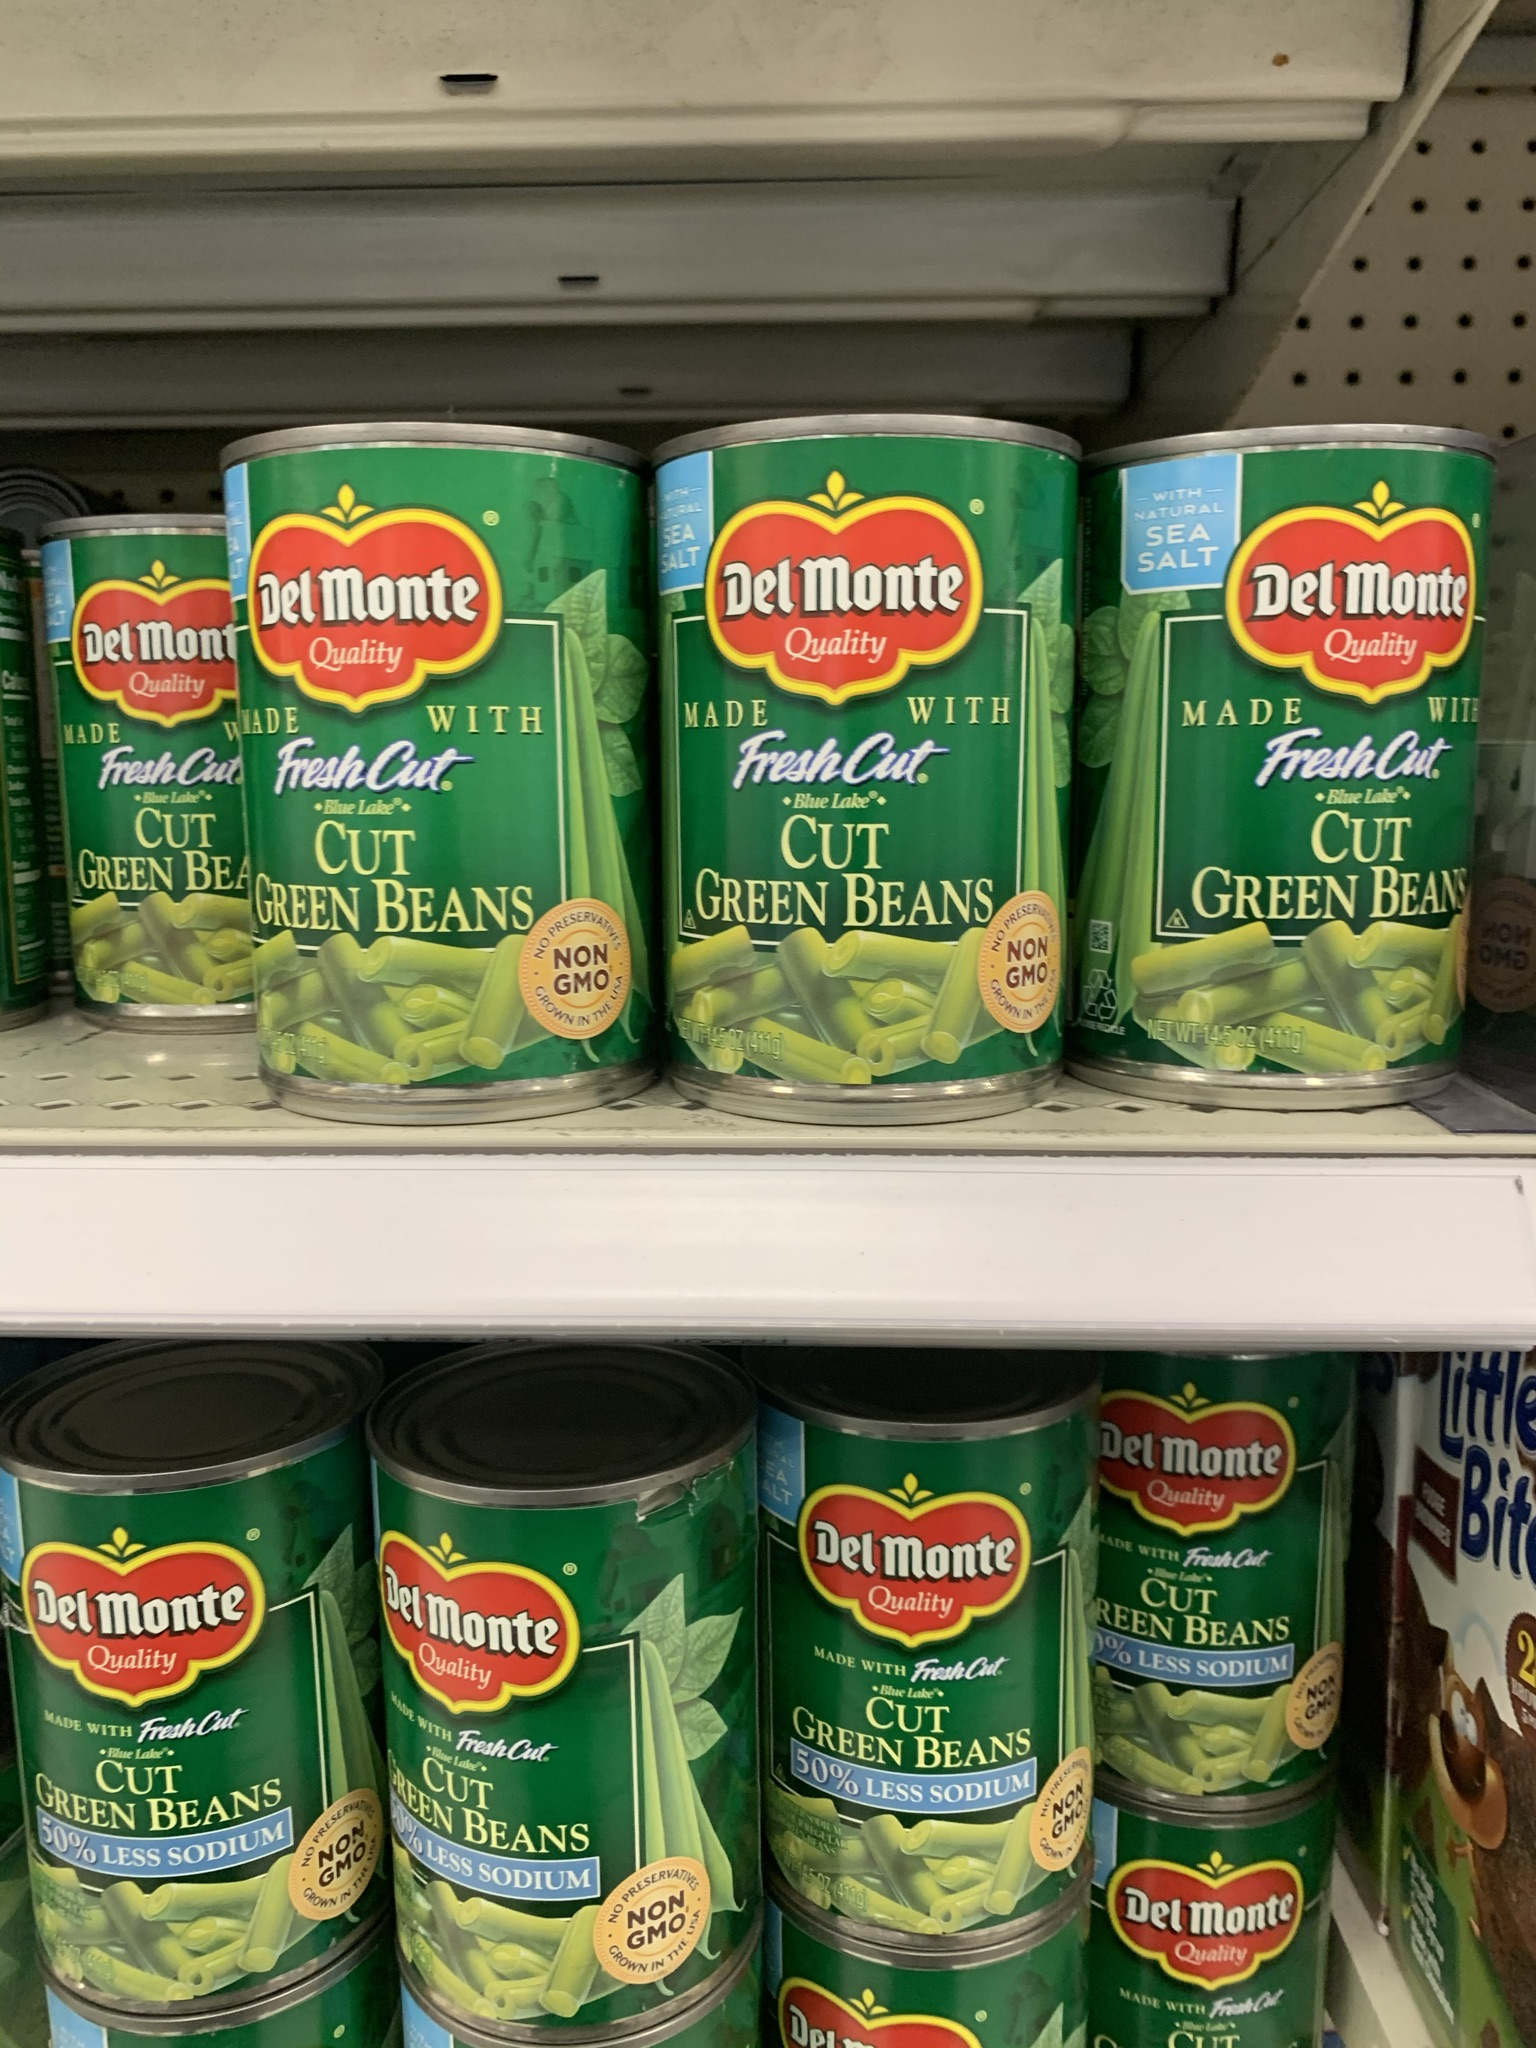can: (657, 414, 1083, 1124), (219, 424, 645, 1126), (1100, 418, 1497, 1113), (365, 1450, 758, 2030), (5, 1472, 365, 2033), (763, 1393, 1099, 1951), (1107, 1359, 1359, 1814), (1099, 1811, 1334, 2048)
